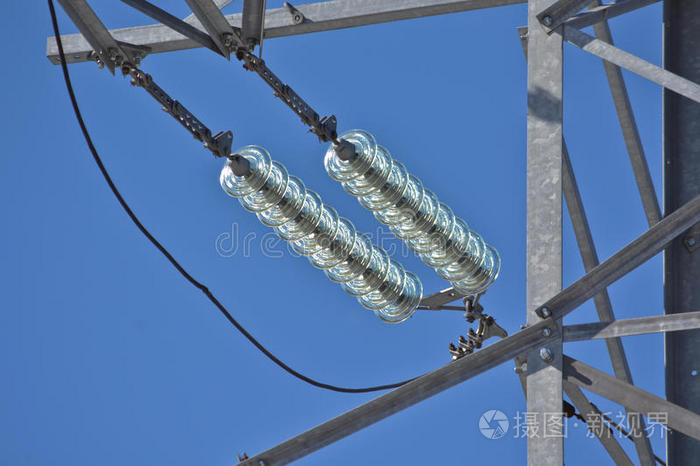insulator: (223, 144, 419, 327), (326, 128, 501, 293)
